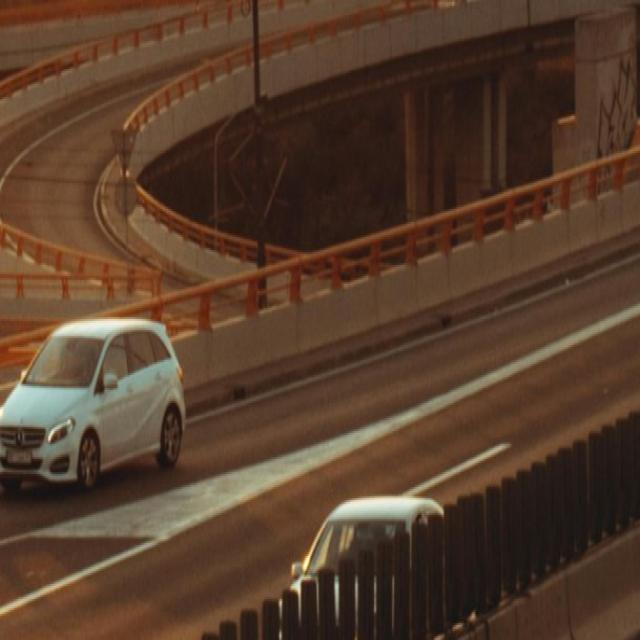car: (0, 315, 186, 493), (284, 491, 438, 580)
